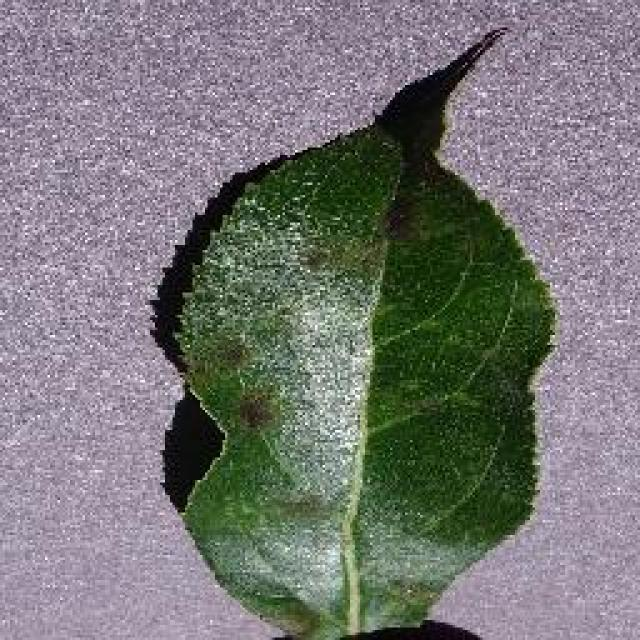apple scab disease: (152, 22, 560, 638)
